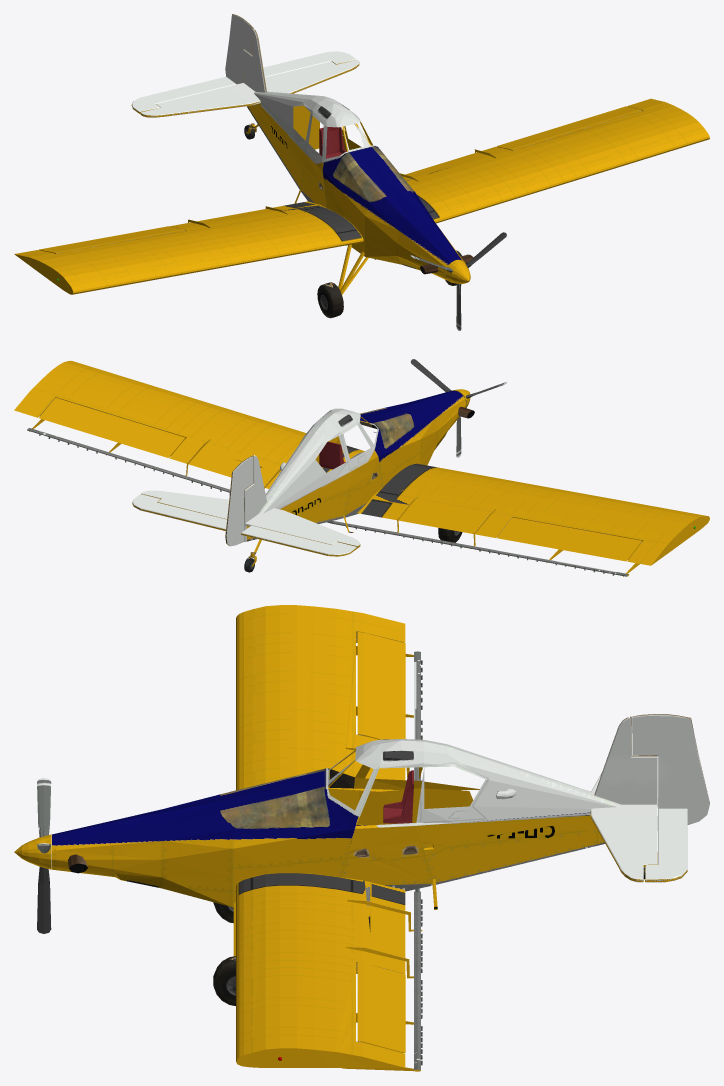
File: ChimNirThrush_LOD1.gltf
3 renders of one model, top to bottom at view 1: azimuth 30°, elevation 25°; view 2: azimuth 150°, elevation 25°; view 3: azimuth 270°, elevation 25°, orthographic. The views are drawn at different scales.
Visible parts, largest first — view 1: node11, node8, node12; view 2: node11, node8; view 3: node11, node8, node12.
Part boxes in pixels (x1,y1,x2,y2): node11: (14,51,709,294); node8: (225,14,507,330); node12: (293,105,372,151); node11: (14,360,709,576); node8: (225,359,506,572); node11: (236,605,687,1071); node8: (14,714,709,1005); node12: (328,750,479,825).
Bounding box in the file's own units: 14.5 × 3.78 × 9.58.
